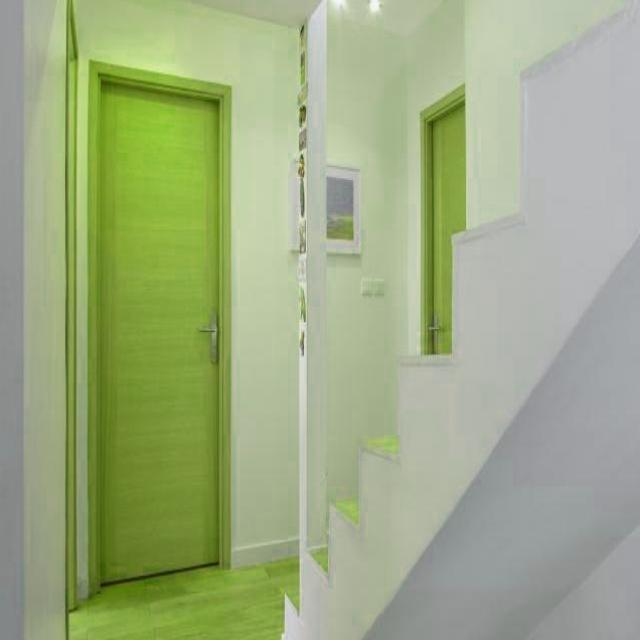door: (86, 61, 229, 587)
